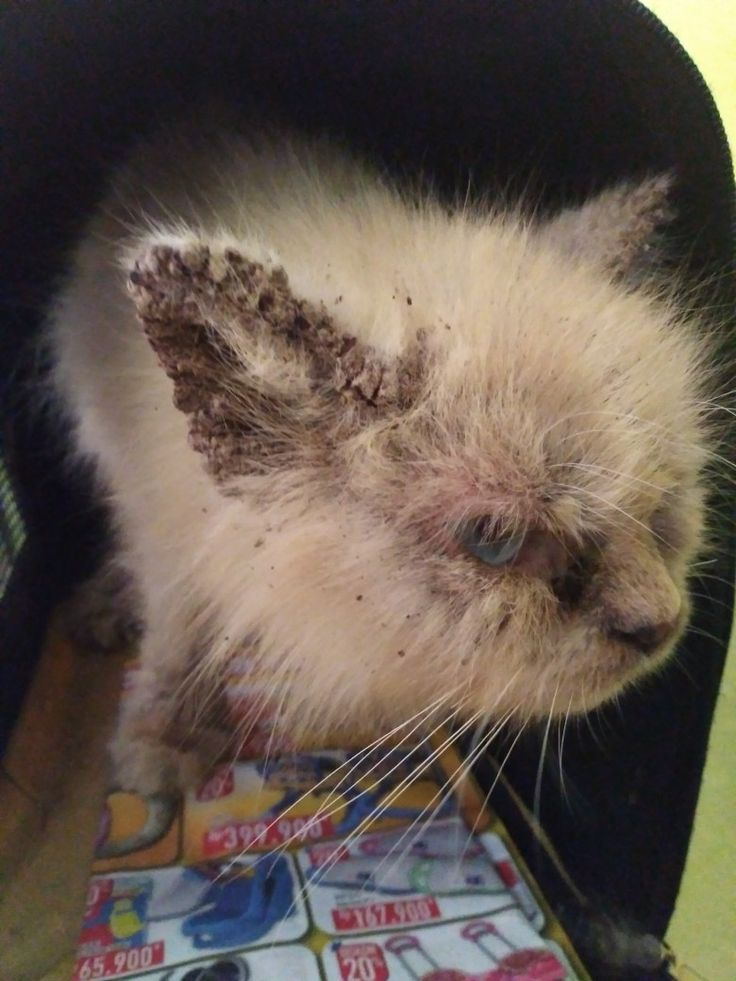kudis: (113, 219, 423, 478), (589, 165, 688, 284)
